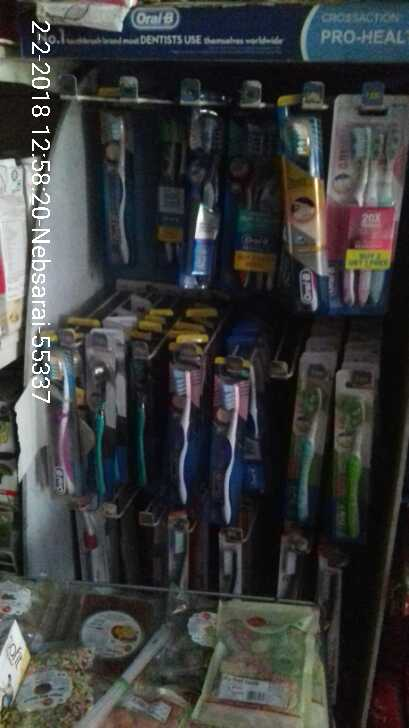oralb: (336, 127, 402, 312), (159, 368, 203, 511), (212, 377, 243, 523), (49, 357, 82, 494), (86, 368, 119, 504)
